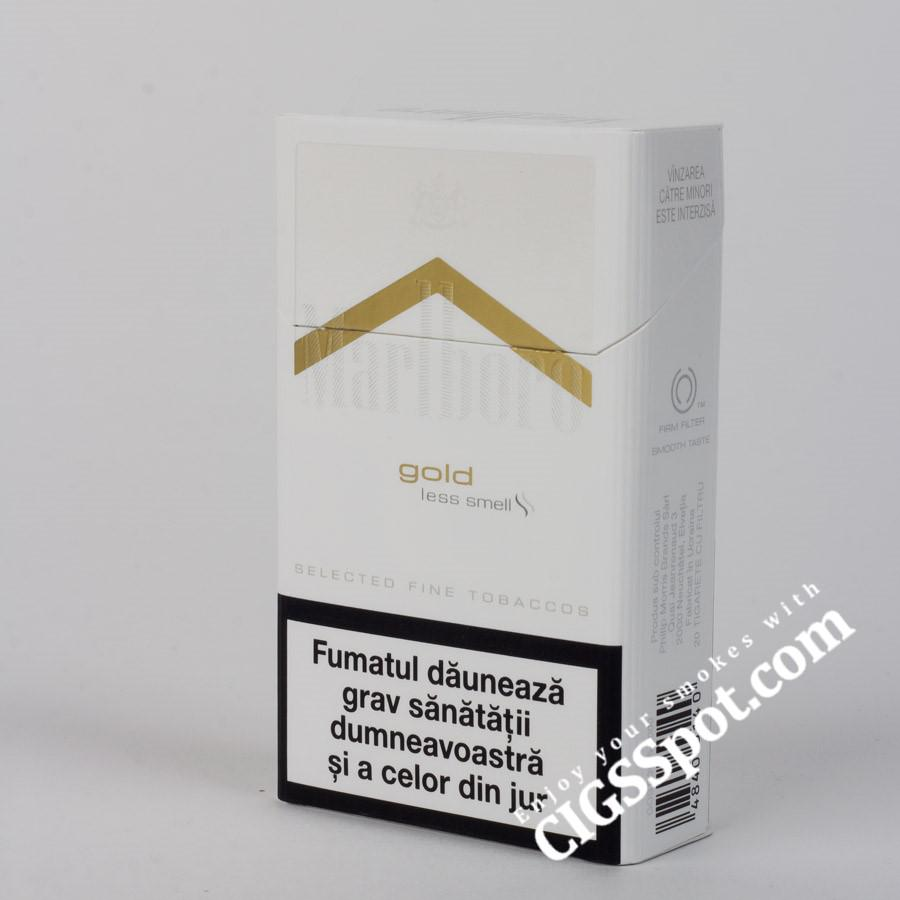marlboro_gold: (284, 121, 629, 803)
